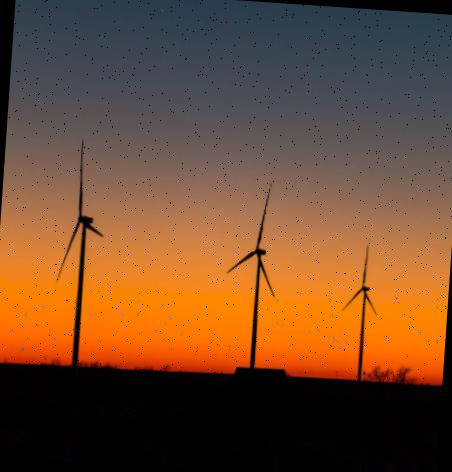wind turbine: (54, 136, 106, 367), (227, 180, 277, 375), (339, 243, 380, 384)
